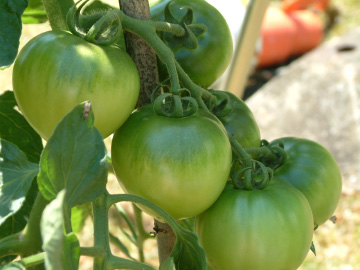stems: (231, 137, 258, 185), (161, 58, 184, 113), (85, 14, 117, 41), (147, 18, 185, 38), (243, 148, 281, 161)
tomato: (11, 28, 140, 144), (111, 103, 232, 220), (197, 177, 316, 270), (229, 136, 342, 226), (148, 1, 234, 91), (182, 90, 260, 168)
